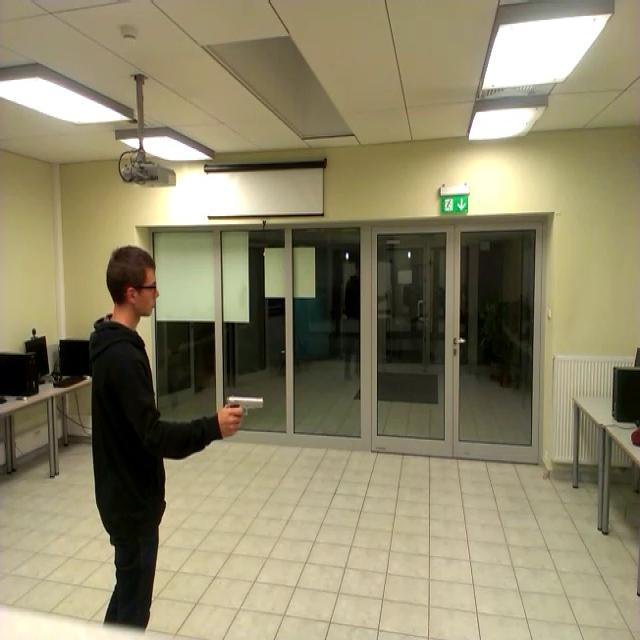Gun: (214, 381, 269, 435)
